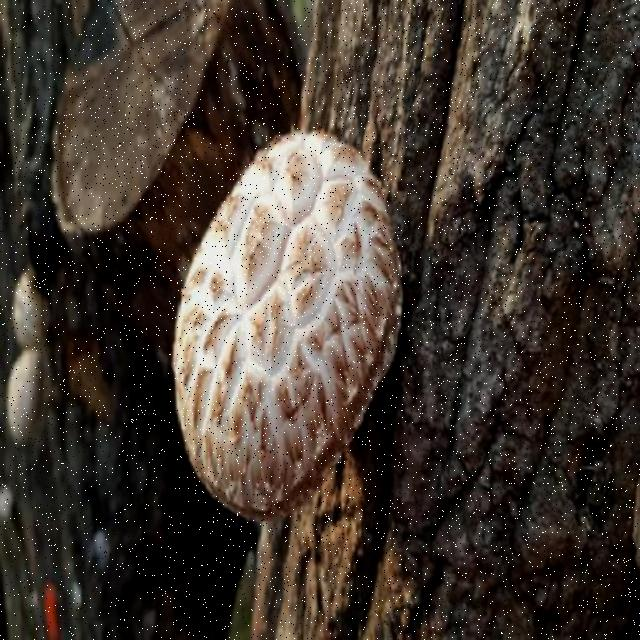Mushroom: (142, 99, 429, 530)
